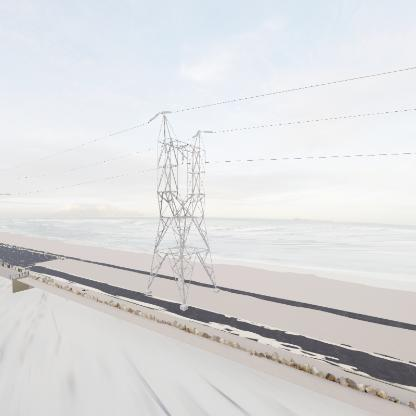tower: (141, 108, 222, 312)
